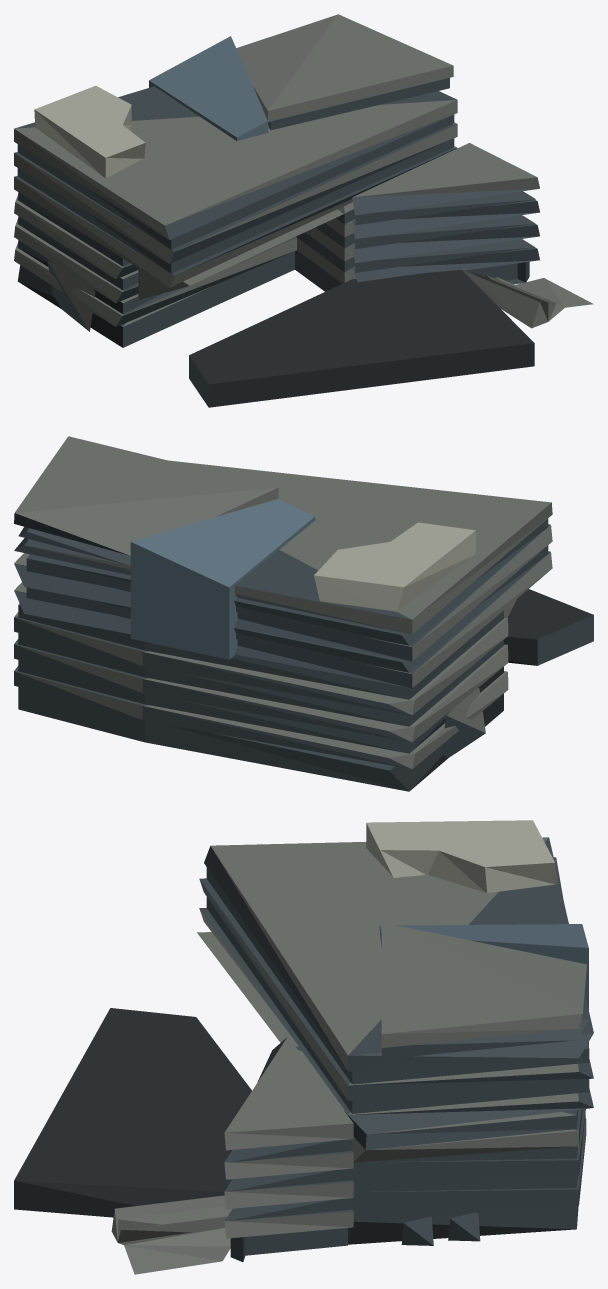
The model's file is sint-nicolaaslyceum.lod2.glb.
3 views of the same model, one above another, from view 1: azimuth 30°, elevation 25°; view 2: azimuth 150°, elevation 25°; view 3: azimuth 270°, elevation 25° (orthographic). The views are drawn at different scales.
Visible parts, largest first — view 1: lod2; view 2: lod2; view 3: lod2.
Boxes of the visible parts, x1,y1,x2,y2 form: lod2: (14,14,593,407); lod2: (14,436,593,791); lod2: (14,820,593,1274).
Bounding box in the file's own units: 62.9 × 25.8 × 62.
